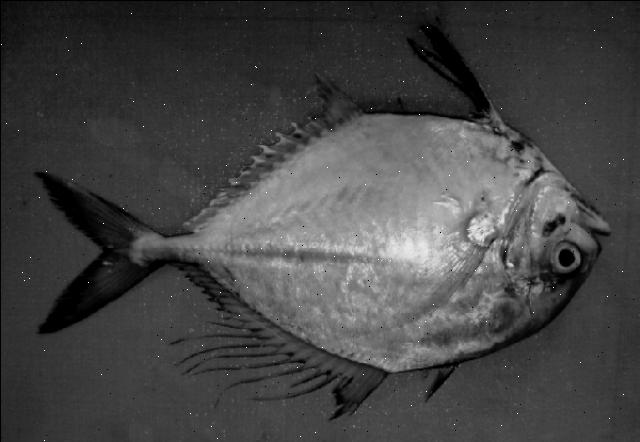Mulut: (572, 200, 618, 268)
Sirip Anal: (185, 64, 361, 234)
Sirip Dada: (332, 212, 488, 346)
Sirip Ekor: (23, 156, 166, 344)
Sirip Perut: (398, 10, 502, 128)
Sirip Punggung: (169, 256, 461, 426)
